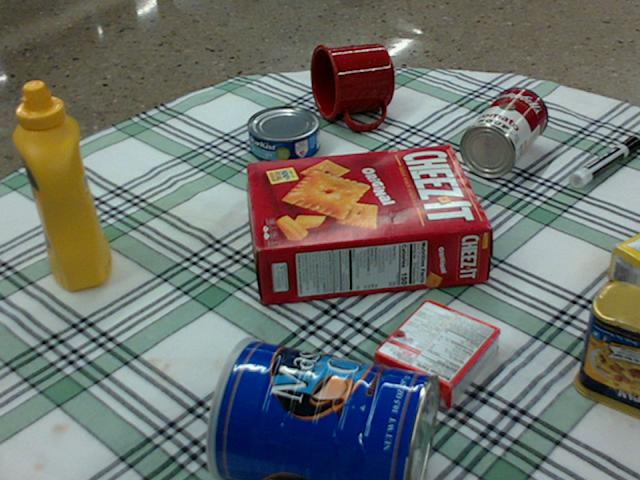cracker_box: (247, 147, 488, 305)
gelatin_box: (374, 299, 500, 405)
large_marker: (568, 137, 639, 186)
master_chef_can: (205, 340, 438, 479)
mug: (308, 43, 394, 128)
mustard_bottle: (13, 81, 110, 290)
potted_meat_can: (574, 279, 639, 415)
sugar_box: (610, 236, 639, 298)
tomato_soup_can: (459, 86, 547, 176)
tuna_fish_can: (246, 105, 319, 162)
